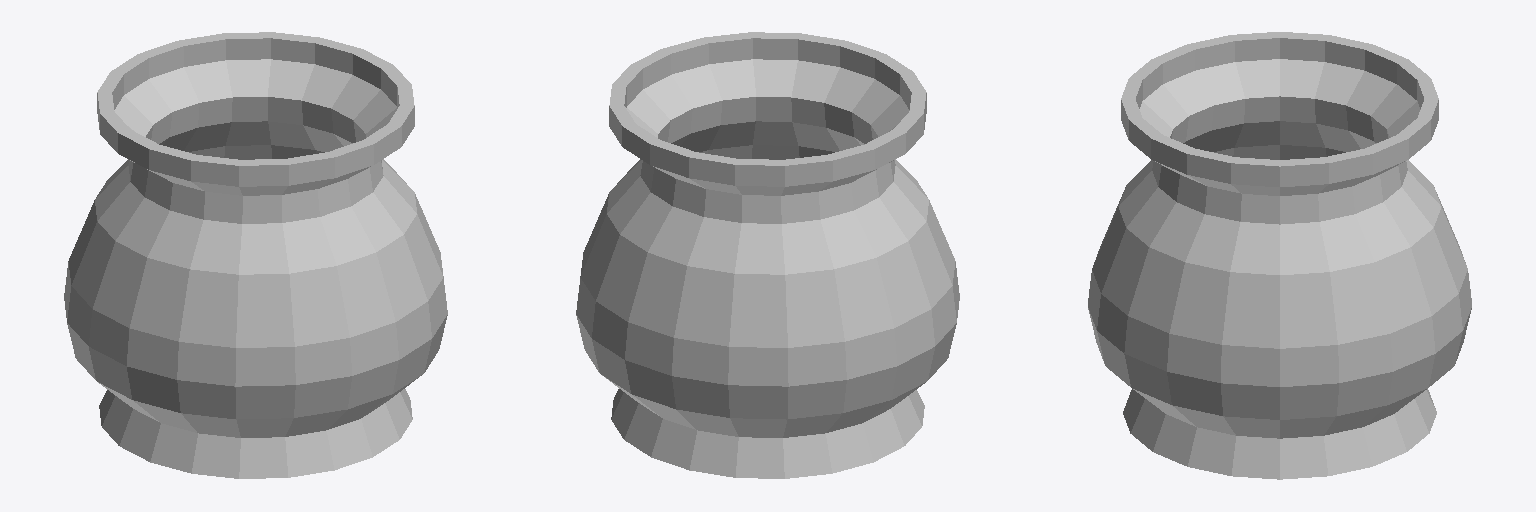
Rendered from Pot.obj.
3 views of the same model, side by side, from view 1: azimuth 30°, elevation 25°; view 2: azimuth 150°, elevation 25°; view 3: azimuth 270°, elevation 25° (orthographic).
Parts seen in each view (by area): view 1: Pot:pCylinder1; view 2: Pot:pCylinder1; view 3: Pot:pCylinder1.
Boxes of the visible parts, box(x1,y1,x2,y2) form: Pot:pCylinder1: box(64, 32, 447, 478); Pot:pCylinder1: box(576, 32, 959, 478); Pot:pCylinder1: box(1088, 32, 1471, 479).
Bounding box in the file's own units: 0.9786 × 0.8766 × 0.9743.